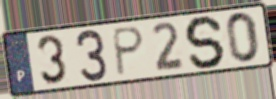0: (224, 10, 262, 65)
2: (153, 20, 187, 74)
3: (73, 27, 108, 84), (35, 32, 69, 87)
P: (112, 25, 147, 79)
S: (183, 14, 228, 70)
